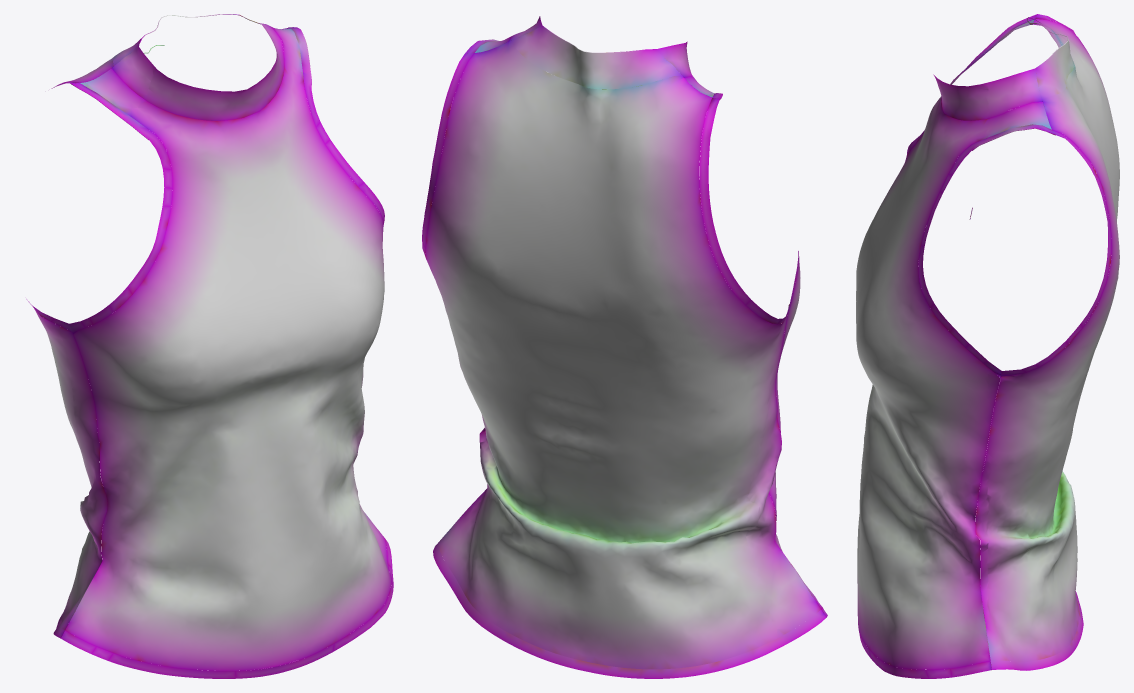
The model's file is sporttank.glb.
3 views of the same model, side by side, from view 1: azimuth 30°, elevation 25°; view 2: azimuth 150°, elevation 25°; view 3: azimuth 270°, elevation 25° (orthographic). The views are drawn at different scales.
Parts seen in each view (by area): view 1: front, back, trim; view 2: back, trim, front; view 3: front, back, trim.
Part boxes in pixels (box(x1,y1,x2,y2)): front: box(65, 27, 391, 670); back: box(34, 14, 286, 638); trim: box(26, 27, 393, 678); back: box(425, 16, 826, 678); trim: box(422, 39, 827, 617); front: box(468, 36, 822, 609); front: box(856, 19, 1051, 669); back: box(933, 17, 1119, 670); trim: box(859, 14, 1111, 678).
Size of the model in its own units: 0.2609 by 0.4198 by 0.1706.
